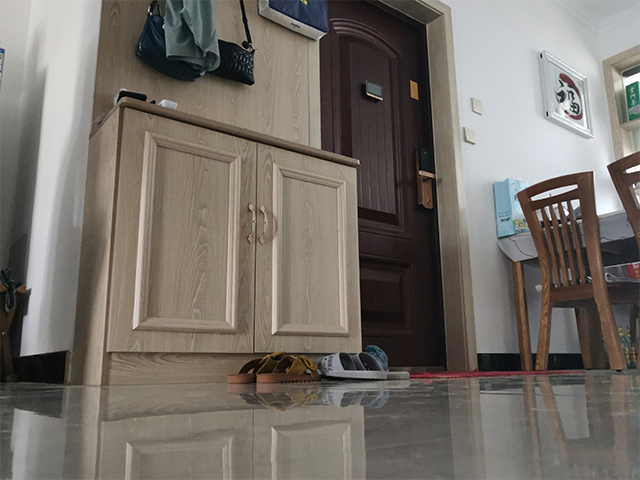cabinet: (86, 97, 367, 357)
carpet: (407, 368, 588, 380)
slippers: (254, 350, 326, 386), (312, 349, 390, 382)
stool: (514, 168, 625, 373)
